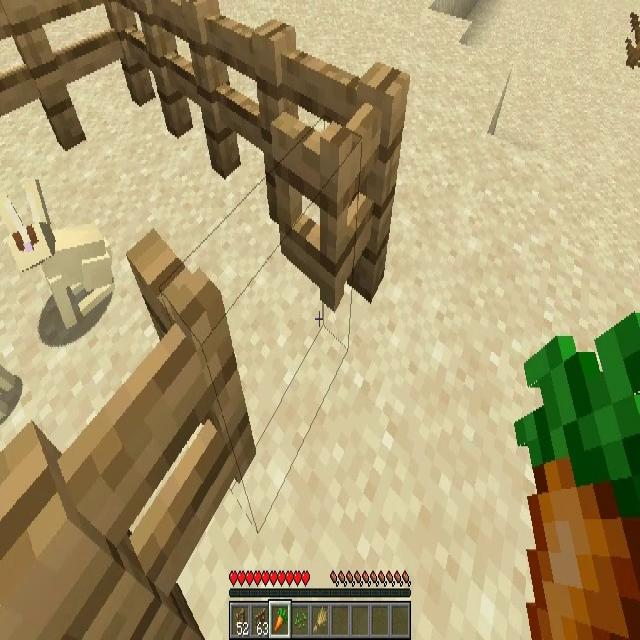rabbit: (1, 179, 113, 315)
